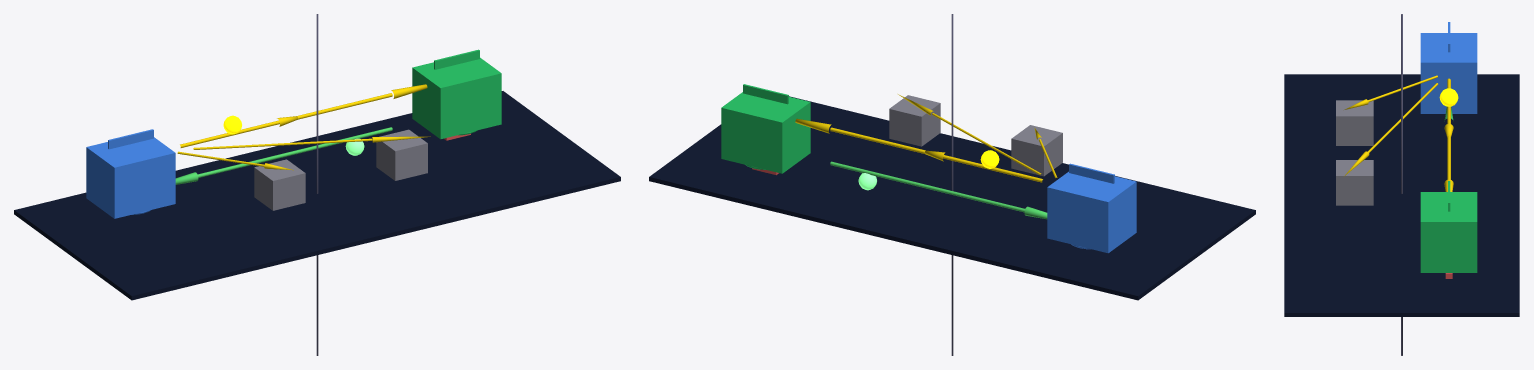
File: arp_resolution.glb
3 renders of one model, left to right at view 1: azimuth 30°, elevation 25°; view 2: azimuth 150°, elevation 25°; view 3: azimuth 270°, elevation 25°, orthographic.
Visible parts, largest first — view 1: Platform, Sender, Target, Host_0, Host_1, Unicast_ARP_Reply, Broadcast_Target, LAN_Cable, Broadcast_Host1, Broadcast_ARP_Request, Sender_Label, Target_Label; view 2: Platform, Sender, Target, Host_1, Host_0, Unicast_ARP_Reply, Broadcast_Target, LAN_Cable, Broadcast_ARP_Request, Broadcast_Host1, Sender_Label, Target_Label; view 3: Platform, Target, Sender, Host_1, Host_0, LAN_Cable, Broadcast_Host1, Broadcast_Host0, Broadcast_Target, Broadcast_Packet, Broadcast_ARP_Request.
Boxes of the visible parts, left/top/right/bottom form: Platform: left=14, top=91, right=620, bottom=300; Sender: left=86, top=137, right=175, bottom=218; Target: left=412, top=57, right=501, bottom=139; Host_0: left=254, top=159, right=305, bottom=210; Host_1: left=376, top=129, right=427, bottom=180; Unicast_ARP_Reply: left=175, top=127, right=392, bottom=184; Broadcast_Target: left=196, top=84, right=427, bottom=142; LAN_Cable: left=316, top=14, right=318, bottom=355; Broadcast_Host1: left=193, top=136, right=430, bottom=149; Broadcast_ARP_Request: left=180, top=116, right=297, bottom=147; Sender_Label: left=108, top=129, right=153, bottom=149; Target_Label: left=434, top=49, right=479, bottom=69; Platform: left=649, top=96, right=1255, bottom=300; Sender: left=1047, top=171, right=1136, bottom=253; Target: left=721, top=92, right=810, bottom=173; Host_1: left=889, top=95, right=940, bottom=146; Host_0: left=1011, top=125, right=1062, bottom=176; Unicast_ARP_Reply: left=830, top=161, right=1047, bottom=219; Broadcast_Target: left=795, top=118, right=1026, bottom=178; LAN_Cable: left=951, top=14, right=953, bottom=355; Broadcast_ARP_Request: left=925, top=150, right=1042, bottom=182; Broadcast_Host1: left=898, top=94, right=1041, bottom=175; Sender_Label: left=1069, top=163, right=1114, bottom=183; Target_Label: left=743, top=84, right=788, bottom=104; Platform: left=1284, top=74, right=1519, bottom=316; Target: left=1420, top=192, right=1477, bottom=272; Sender: left=1420, top=33, right=1477, bottom=113; Host_1: left=1336, top=160, right=1373, bottom=205; Host_0: left=1336, top=100, right=1373, bottom=145; LAN_Cable: left=1401, top=14, right=1402, bottom=355; Broadcast_Host1: left=1344, top=83, right=1438, bottom=176; Broadcast_Host0: left=1344, top=75, right=1437, bottom=109; Broadcast_Target: left=1444, top=87, right=1453, bottom=191; Broadcast_Packet: left=1439, top=88, right=1458, bottom=106; Broadcast_ARP_Request: left=1444, top=78, right=1453, bottom=137.
Size of the model in its own units: 12 by 8 by 5.
